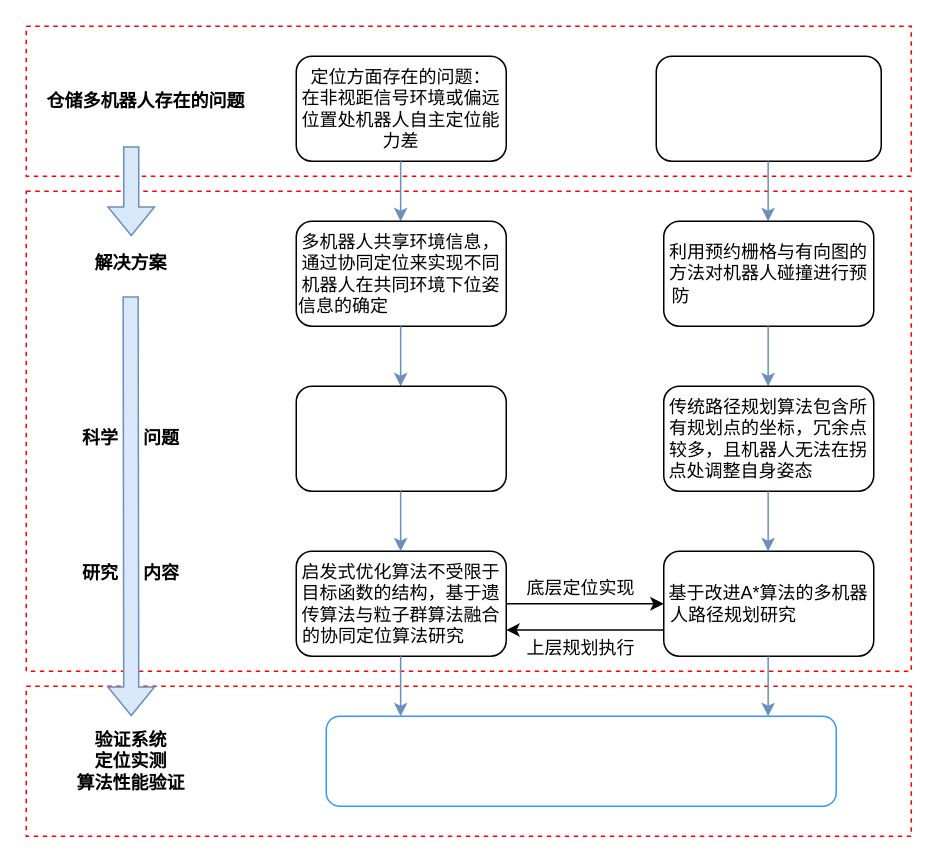
Image size: 938x863. Some labels were removed from this diagram. The centre of each missing label's shape, as x and y in pixels:
"传统协同定位算法存在大量邻近链路、非线形测量函数和非高斯噪声导致定位函数非凸" goes at (x=400, y=438).
"建立三维的实时定位监控系统 对仓储机器人进行定位实测 显式的方式实现机器人的路径规划" goes at (x=580, y=760).
"路径规划方面存在的问题： 多机器人在作业时容易产生交通拥堵，工作效率低下" goes at (x=768, y=108).
